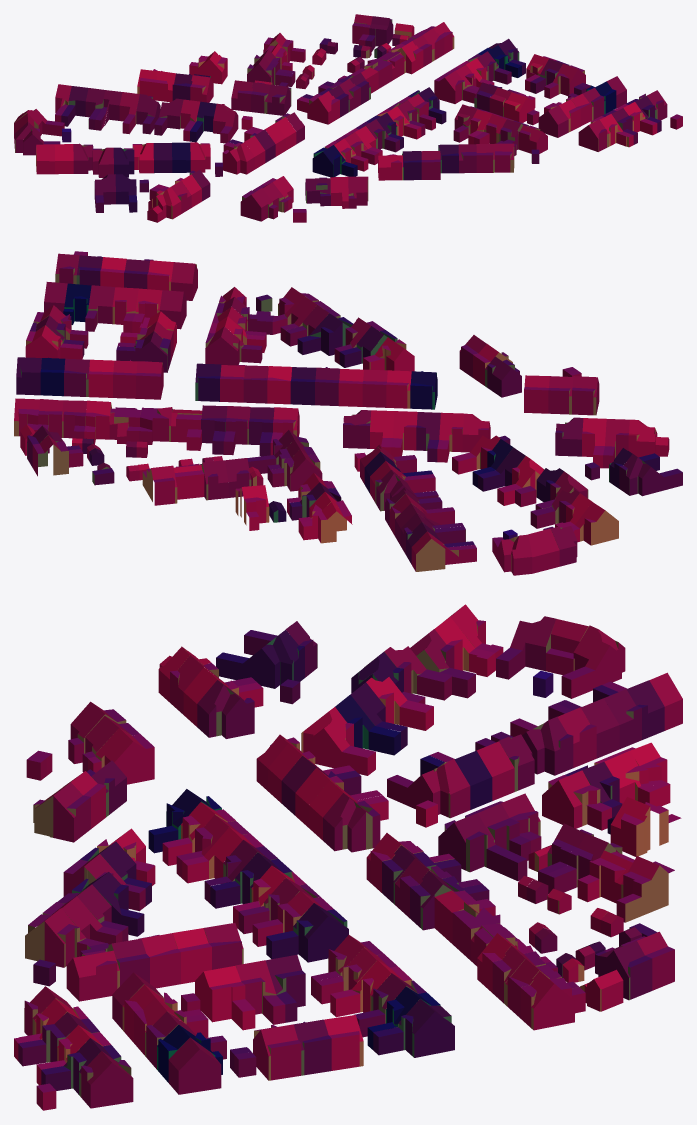
The model's file is buildings_8_14.glb.
The picture shows the model from 3 angles, top to bottom: view 1: azimuth 30°, elevation 25°; view 2: azimuth 150°, elevation 25°; view 3: azimuth 270°, elevation 25°; orthographic projection. The views are drawn at different scales.
Parts seen in each view (by area): view 1: buildings_8_14; view 2: buildings_8_14; view 3: buildings_8_14.
Part boxes in pixels (x1=…): buildings_8_14: x1=14, y1=14, x2=682, y2=222; buildings_8_14: x1=14, y1=251, x2=682, y2=575; buildings_8_14: x1=14, y1=604, x2=682, y2=1110.
Size of the model in its own units: 183 by 8.21 by 111.
